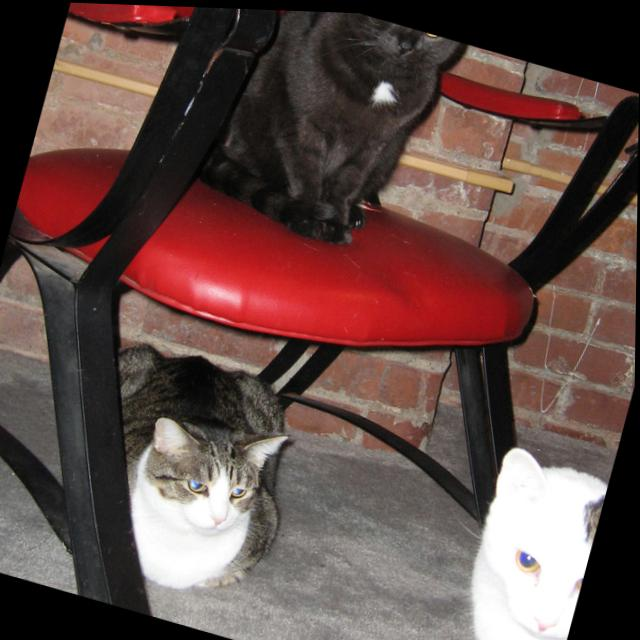animals: (357, 11, 474, 68)
